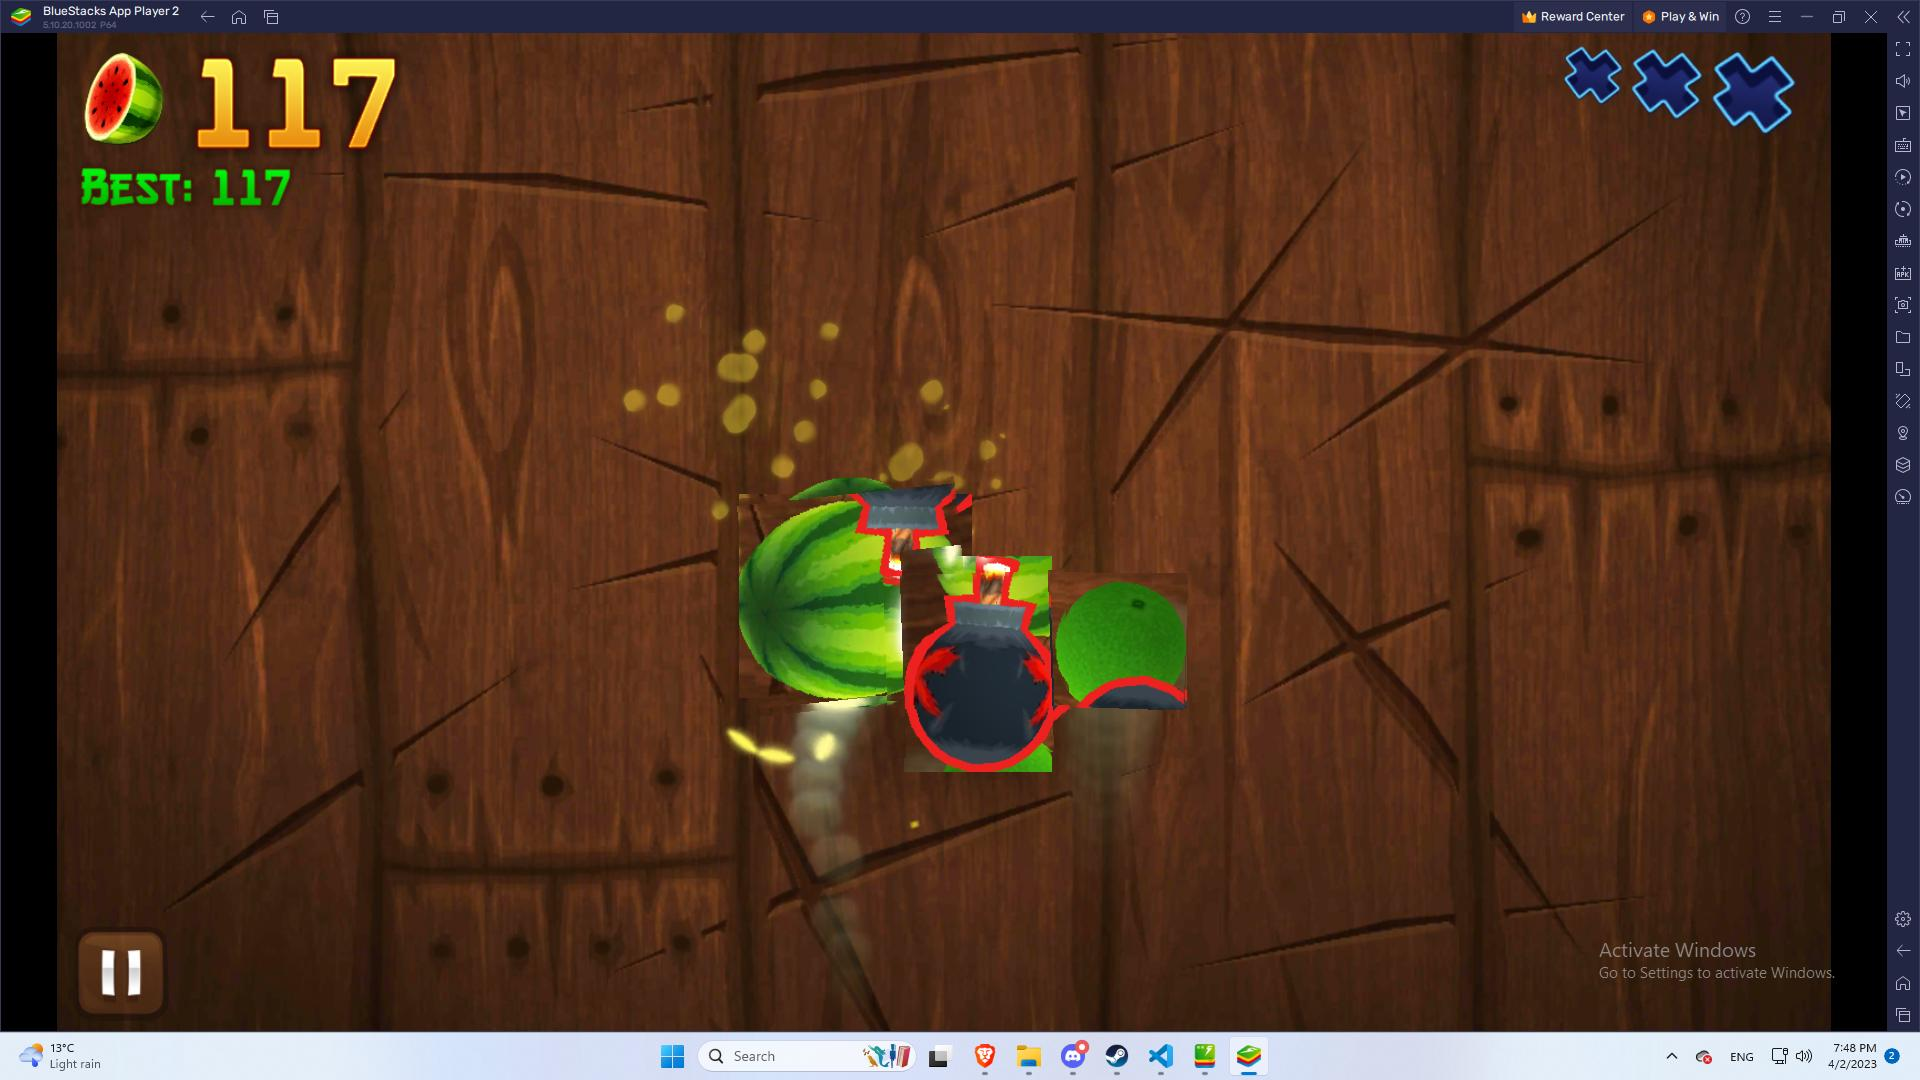bomb: (885, 572, 1071, 757)
fruit: (742, 481, 971, 711), (1052, 572, 1189, 709)
